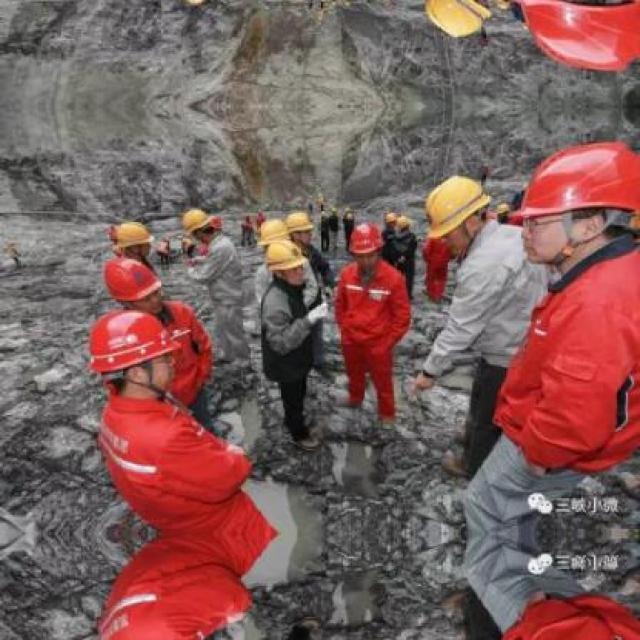helmet: (514, 143, 634, 272), (514, 0, 635, 71), (93, 310, 184, 401), (418, 173, 502, 251), (99, 250, 166, 316), (419, 0, 503, 40), (264, 238, 302, 278), (112, 220, 153, 257), (179, 206, 215, 243), (257, 219, 291, 258), (348, 223, 378, 263), (283, 210, 314, 245), (394, 215, 412, 234), (178, 0, 216, 8), (384, 210, 398, 230)
